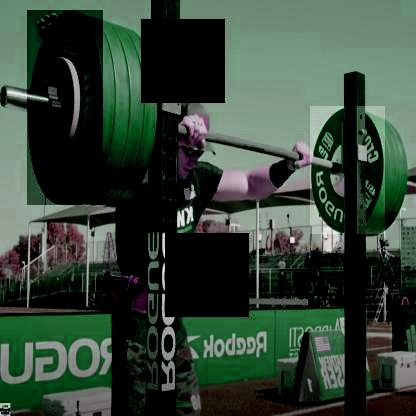barbell: (24, 11, 100, 206), (308, 106, 384, 235)
